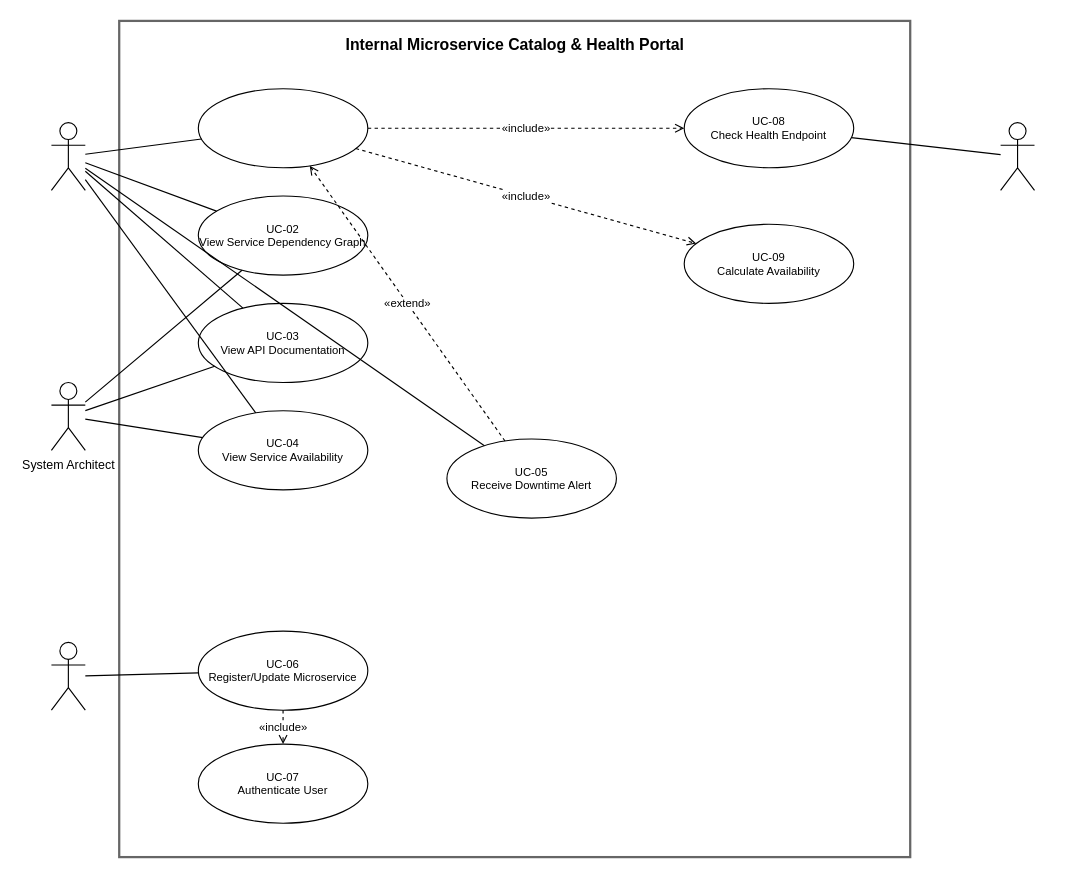
The diagram is 1072 pixels wide and 877 high, and some of its shapes have lost their labels. The shapes that lost their labels are listed below. From the top down, each one's centre as x and y in pixels, then its label:
[282,128]: UC-01 Monitor Microservice Health
[67,155]: DevOps Engineer
[1017,155]: Microservice
[67,675]: Admin
